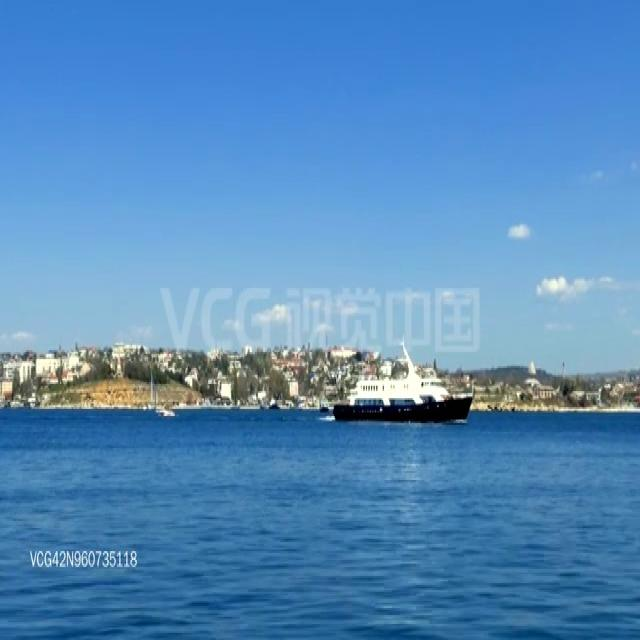passenger ship: (334, 362, 472, 421)
